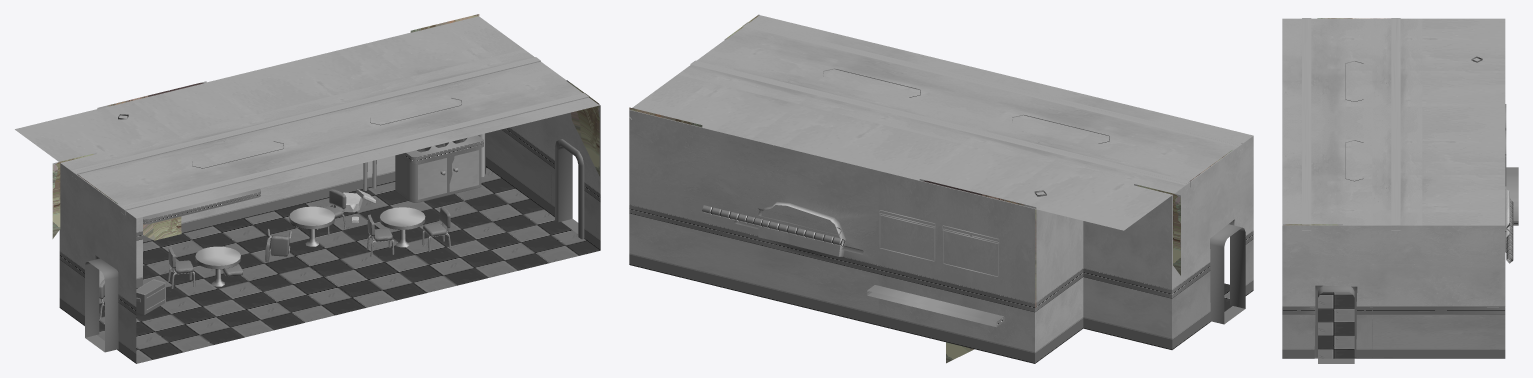
The model's file is MSH_QuestVault_L6_R2_optimized.fbx.
The picture shows the model from 3 angles, left to right: view 1: azimuth 30°, elevation 25°; view 2: azimuth 150°, elevation 25°; view 3: azimuth 270°, elevation 25°; orthographic projection. The views are drawn at different scales.
Parts seen in each view (by area): view 1: lightmap1, lightmap4, lightmap0, MSH_QuestVault_L6_R2_dirt_01; view 2: lightmap1, lightmap4, lightmap0, MSH_QuestVault_L6_R2_dirt_01; view 3: lightmap4, lightmap1, lightmap0.
Part boxes in pixels (x1=…): lightmap1: x1=59, y1=105, x2=600, y2=363; lightmap4: x1=15, y1=16, x2=599, y2=218; lightmap0: x1=85, y1=98, x2=584, y2=352; MSH_QuestVault_L6_R2_dirt_01: x1=52, y1=14, x2=599, y2=240; lightmap1: x1=629, y1=110, x2=1253, y2=363; lightmap4: x1=630, y1=15, x2=1253, y2=230; lightmap0: x1=629, y1=68, x2=1245, y2=327; MSH_QuestVault_L6_R2_dirt_01: x1=629, y1=14, x2=1232, y2=363; lightmap4: x1=1282, y1=18, x2=1505, y2=230; lightmap1: x1=1282, y1=189, x2=1509, y2=358; lightmap0: x1=1314, y1=56, x2=1518, y2=363.
Size of the model in its own units: 20.6 by 6.77 by 9.46.
